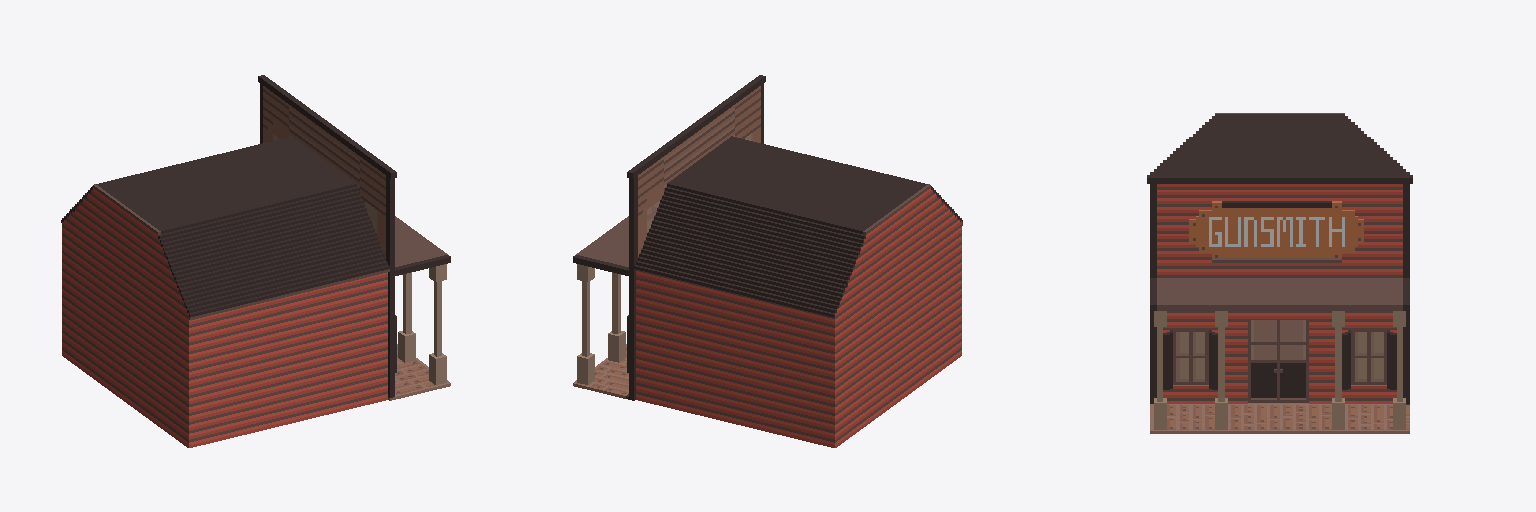
3 views of the same model, side by side, from view 1: azimuth 30°, elevation 25°; view 2: azimuth 150°, elevation 25°; view 3: azimuth 270°, elevation 25° (orthographic).
Parts seen in each view (by area): view 1: Armeria; view 2: Armeria; view 3: Armeria.
Boxes of the visible parts, <box> form: Armeria: <box>61,75,450,447</box>; Armeria: <box>573,75,962,447</box>; Armeria: <box>1147,113,1412,433</box>.
Size of the model in its own units: 93 by 78 by 82.
Materials: 1 (1 with a texture image).